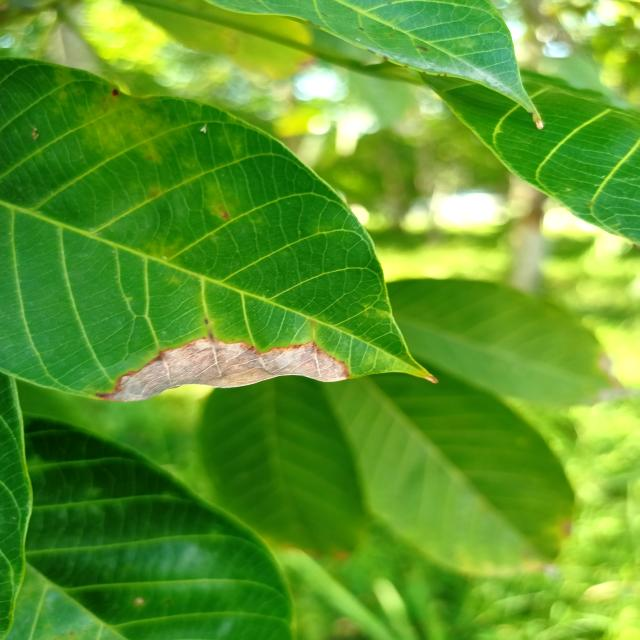Leaf-Blight: (104, 337, 348, 402)
